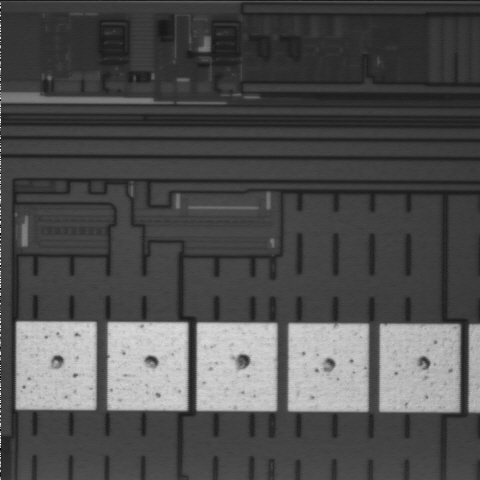pad: (108, 322, 188, 410), (197, 323, 277, 411), (288, 324, 368, 411), (17, 322, 96, 409), (380, 325, 459, 411)
